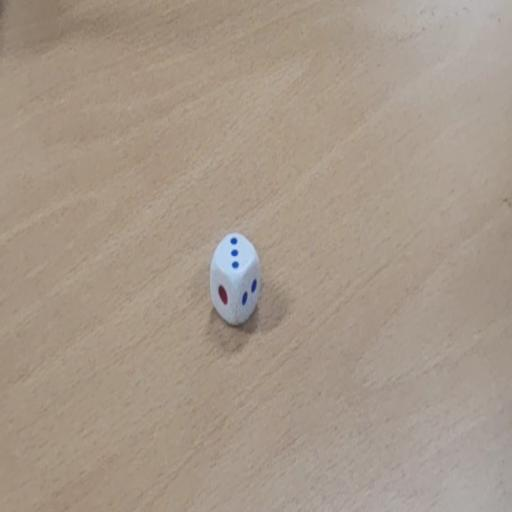dice_3: (210, 230, 262, 330)
